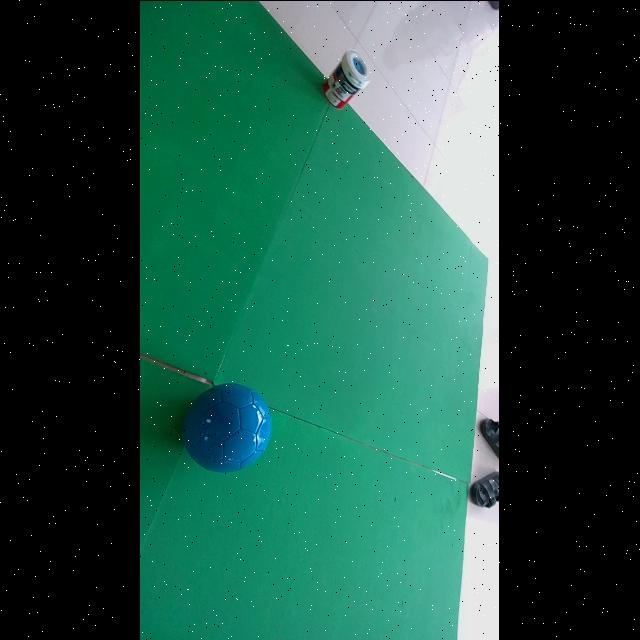B: (184, 384, 272, 471)
